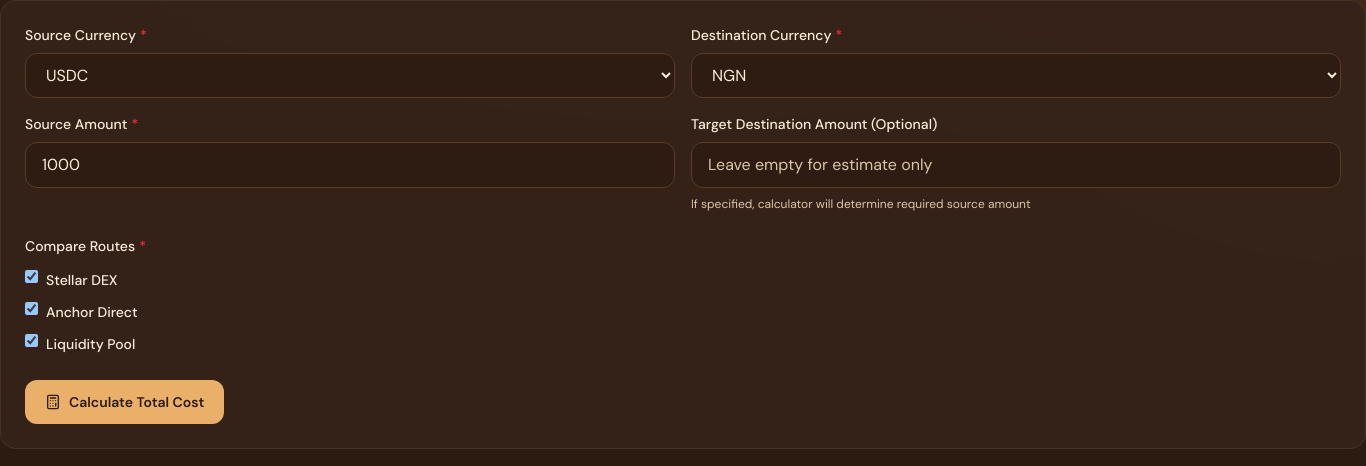
it: CostCalculator – canSubmit guard › disables submit when amount is 0
// The source-amount input carries the current numeric value
Type "0" into the number field showing "1000" at (350, 165), box 25,142 -> 675,188
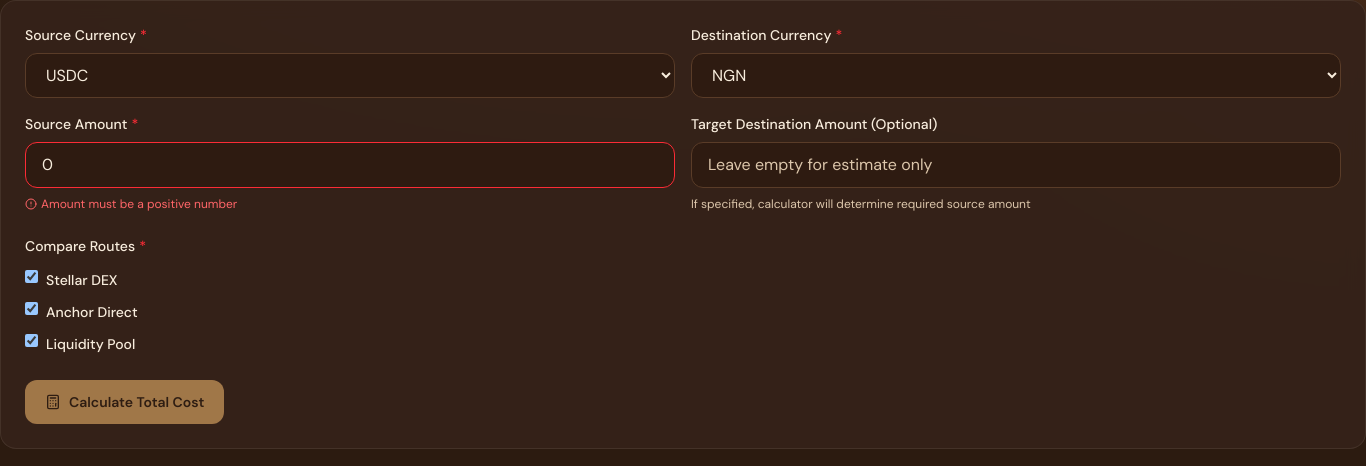
Expected: the button "Calculate Total Cost" is disabled, 25,380 -> 224,424
